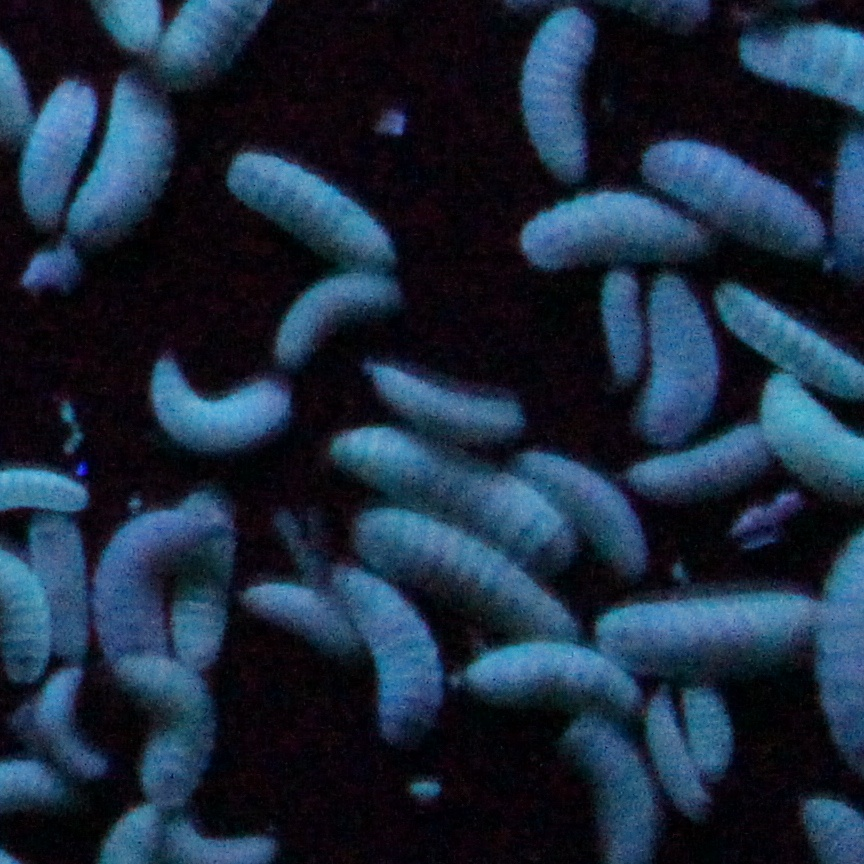larve: (325, 423, 566, 562), (361, 508, 568, 631), (230, 146, 388, 261), (73, 72, 180, 238), (99, 515, 222, 659), (334, 576, 439, 744), (650, 149, 819, 248), (601, 592, 814, 666), (716, 276, 853, 387), (516, 454, 647, 567), (632, 279, 722, 440), (122, 661, 211, 808), (522, 2, 596, 177), (524, 190, 701, 261), (760, 372, 855, 497), (153, 358, 286, 444), (20, 80, 96, 226), (278, 272, 396, 361), (165, 490, 225, 664), (452, 643, 643, 697), (380, 367, 512, 435), (635, 426, 778, 485), (30, 508, 81, 653), (648, 690, 706, 807), (35, 661, 94, 776), (247, 584, 353, 644), (686, 680, 732, 779), (607, 271, 640, 379)
